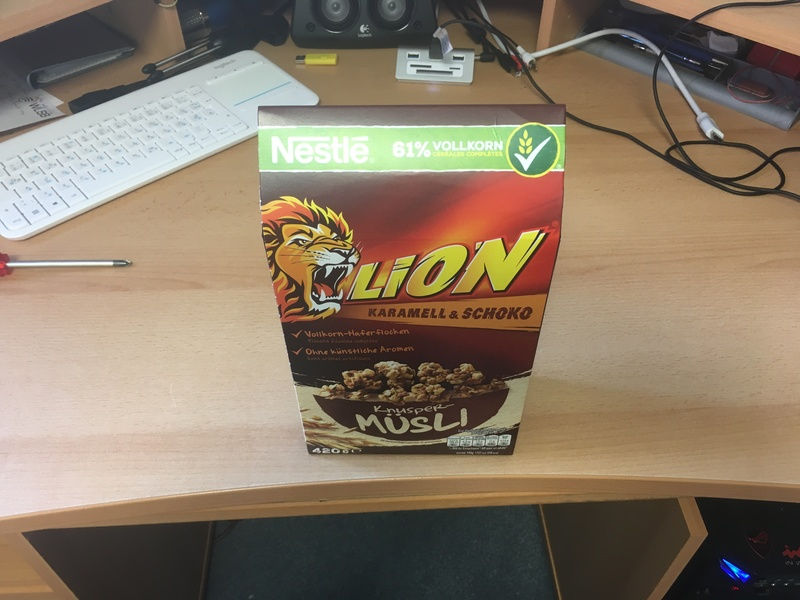cereals: (256, 104, 567, 457)
